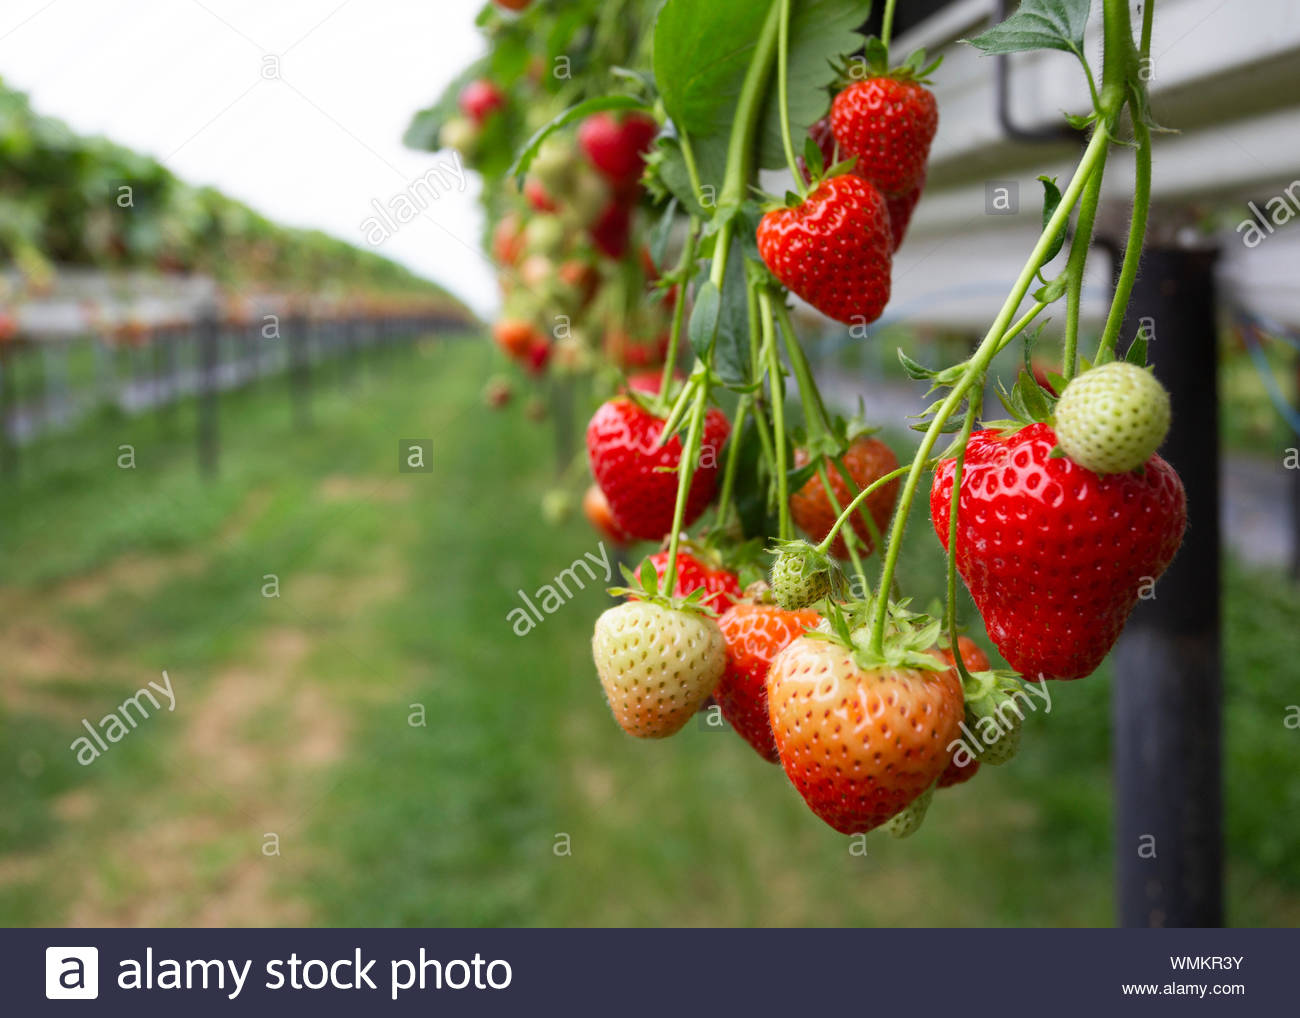ripe: (925, 409, 1215, 683), (704, 594, 865, 776), (752, 165, 911, 329), (582, 385, 743, 538), (825, 66, 944, 215), (627, 539, 746, 623), (573, 96, 662, 201)
unripe: (764, 617, 951, 837), (592, 599, 716, 744), (1048, 352, 1178, 487), (783, 422, 909, 561), (767, 536, 838, 603)
